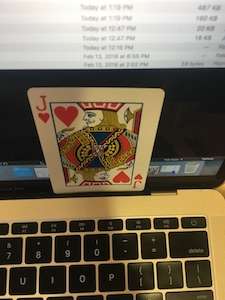JackOfHearts: (24, 85, 166, 199)
